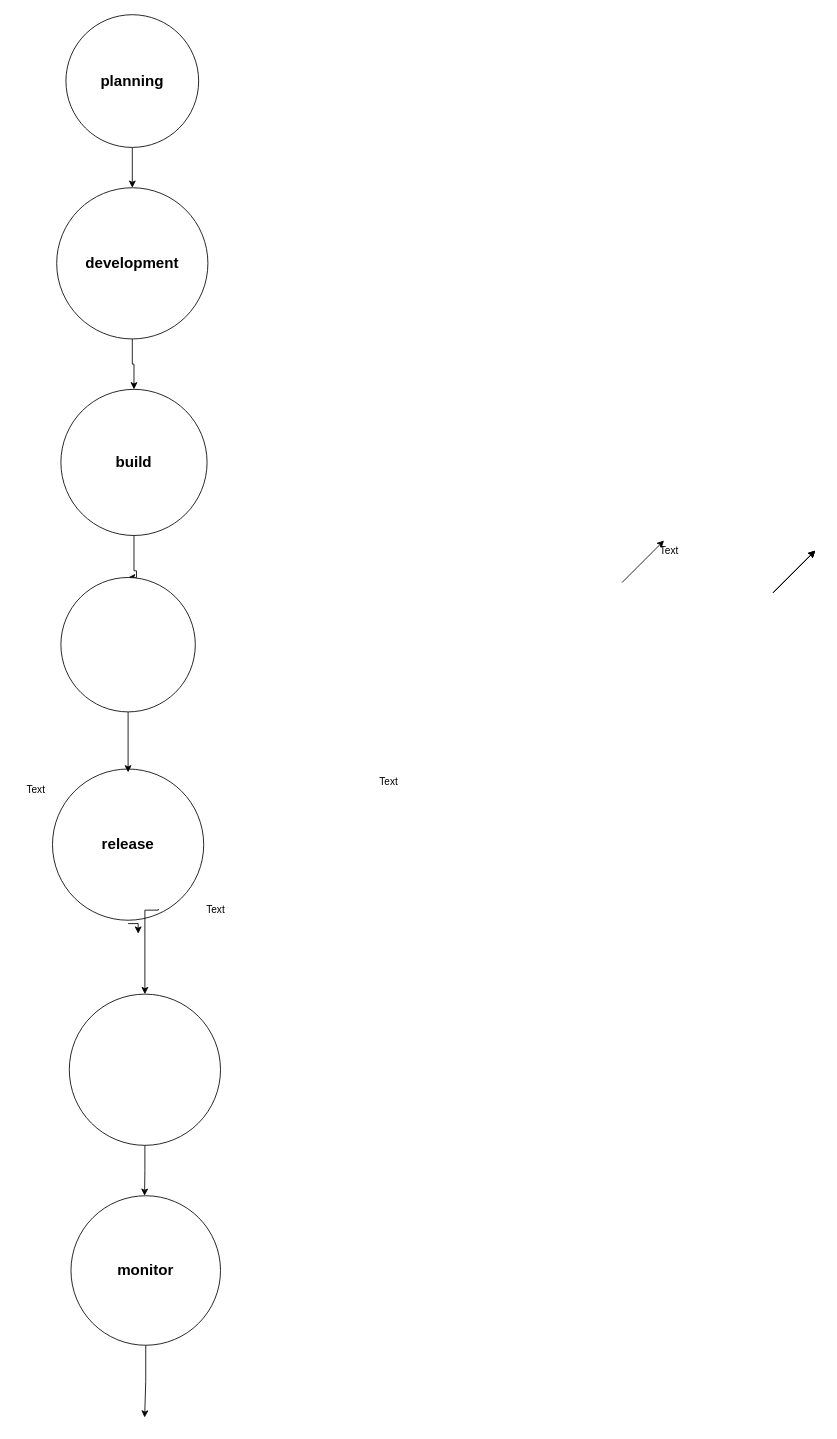
This 837x1439 diagram has some shape labels left out. The box of each missing label's shape, as (x1, y1, x2, y2) in pixels:
operator: (68, 993, 220, 1145)
test: (60, 577, 195, 712)
